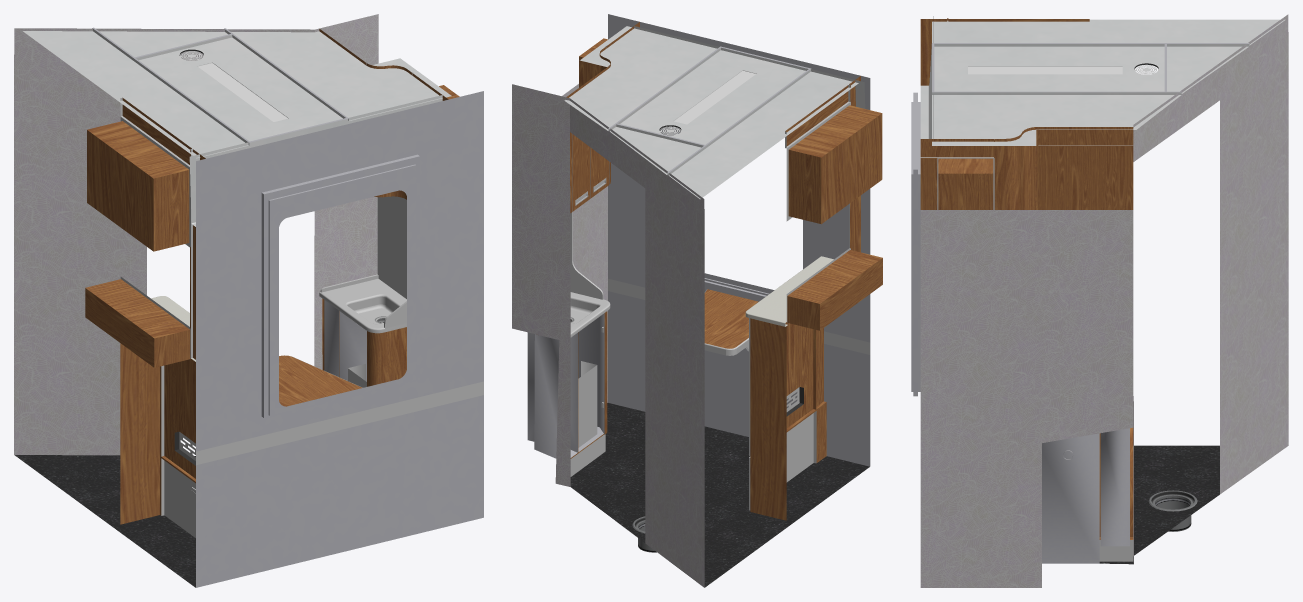
File: Vagon_body_inner_CR_01.fbx
3 renders of one model, left to right at view 1: azimuth 30°, elevation 25°; view 2: azimuth 150°, elevation 25°; view 3: azimuth 270°, elevation 25°, orthographic. The views are drawn at different scales.
Visible parts, largest first — view 1: Vagon_body_inner_CR_01; view 2: Vagon_body_inner_CR_01; view 3: Vagon_body_inner_CR_01.
Part boxes in pixels (x1,y1,x2,y2): Vagon_body_inner_CR_01: (14, 14, 483, 587); Vagon_body_inner_CR_01: (512, 14, 882, 587); Vagon_body_inner_CR_01: (911, 14, 1288, 587).
Size of the model in its own units: 1.69 by 2.3 by 1.73.
